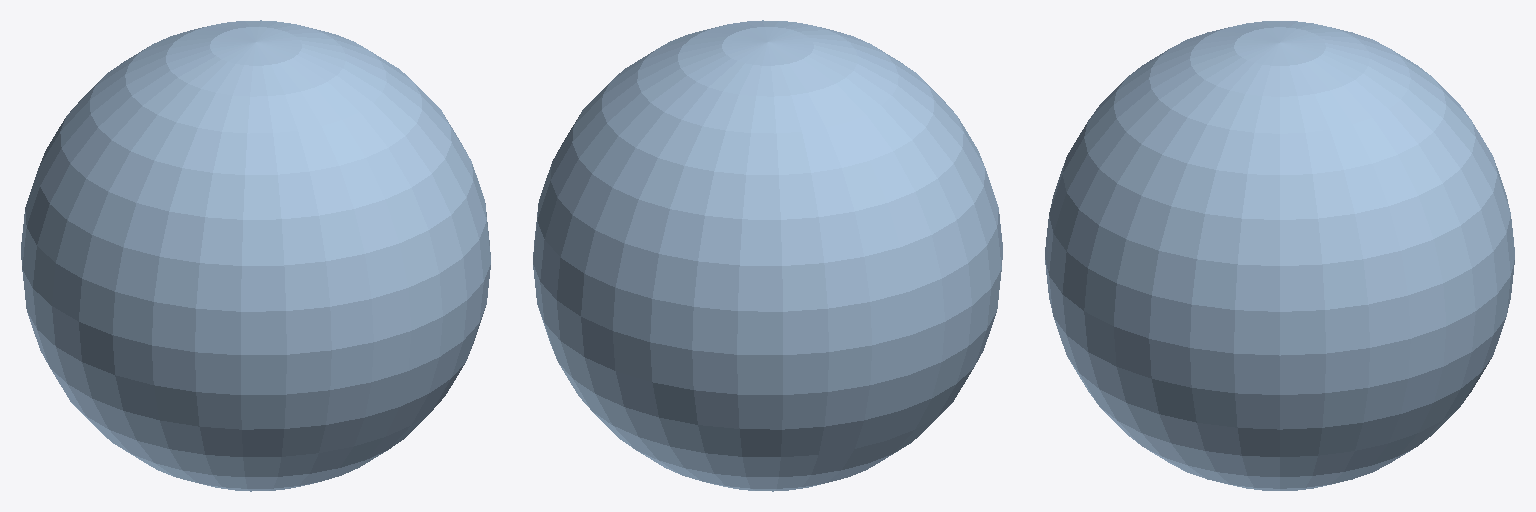
robot.urdf — object:
<?xml version="1.0"?>
<robot name="object">
  <dynamics damping="0.5" friction="0.9"/>
  <link name="object">
    <visual>
      <origin xyz="0 0 0"/>
      <geometry>
        <sphere radius="0.115"/>
      </geometry>
      <material name="mat">
        <color rgba="0.7 0.8 0.9 1"/>
      </material>
    </visual>

    <collision>
      <origin xyz="0 0 0"/>
      <geometry>
        <sphere radius="0.115"/>
      </geometry>
    </collision>
  </link>

</robot>

--- Render facts (derived) ---
Views: 3 orthographic renders of the robot side by side, from view 1: azimuth 30°, elevation 25°; view 2: azimuth 150°, elevation 25°; view 3: azimuth 270°, elevation 25°.
Robot: object — 1 links, 0 joints (none); root link object; default pose: all joints at 0.
Visible links, largest first — view 1: object; view 2: object; view 3: object.
Boxes of the visible links, left/top/right/bottom form: object: left=21, top=20, right=490, bottom=491; object: left=533, top=20, right=1002, bottom=491; object: left=1045, top=21, right=1514, bottom=490.
Bounding box of the posed robot: 0.23 × 0.23 × 0.23 m (x, y, z).
Geometry: primitives only (box / cylinder / sphere), no mesh files.